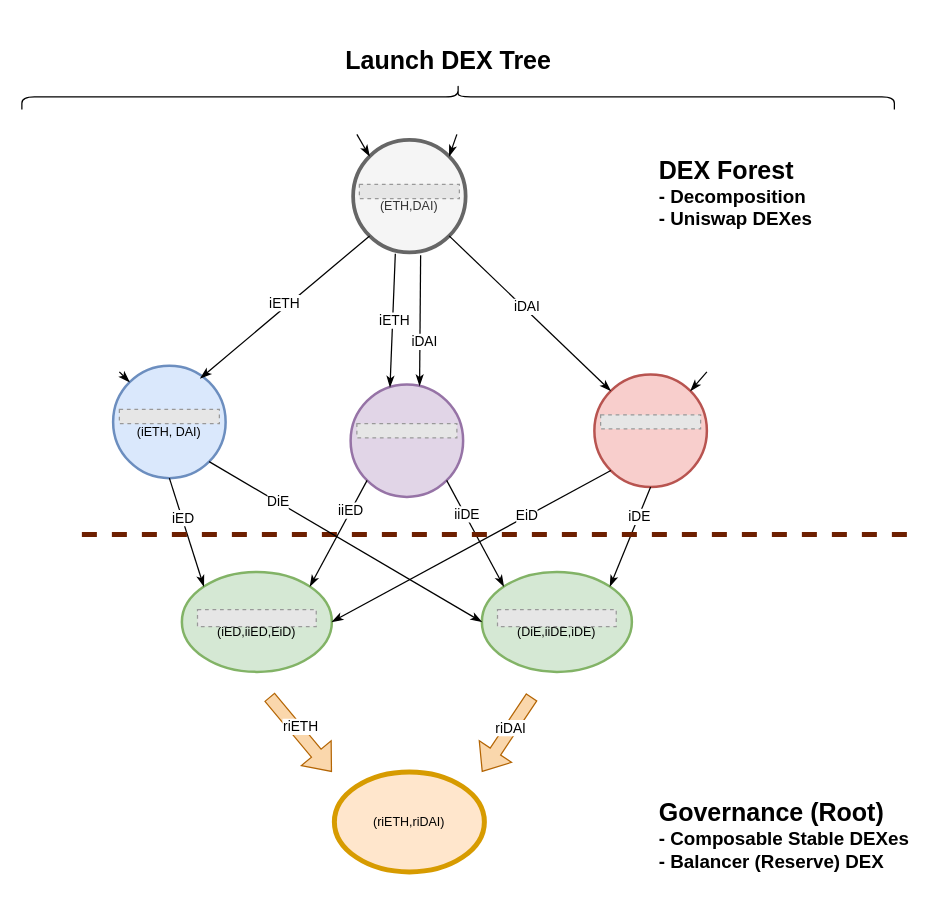
This 948x918 diagram has some shape labels left out. Grey dashed boxes stand in for pictures. The centre of each missing label's shape, as x and y in pixels:
"(iDAI,ETH)" goes at [650,430].
"(iETH, iDAI)" goes at [406,440].
